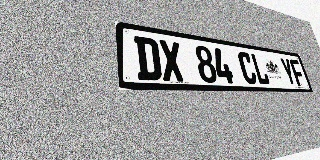4: (211, 47, 235, 83)
8: (194, 45, 218, 83)
C: (237, 51, 258, 84)
D: (134, 36, 163, 81)
F: (289, 59, 307, 86)
L: (250, 53, 271, 85)
X: (158, 39, 185, 82)
Y: (279, 57, 298, 86)
